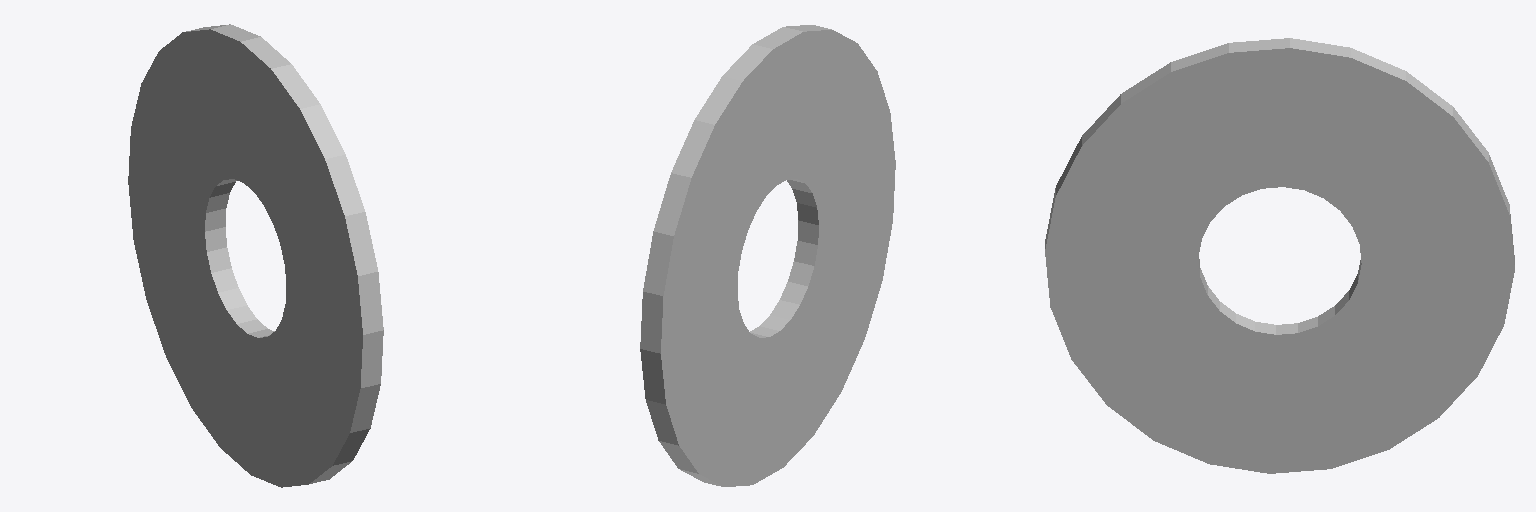
File: original-17.obj
3 views of the same model, side by side, from view 1: azimuth 30°, elevation 25°; view 2: azimuth 150°, elevation 25°; view 3: azimuth 270°, elevation 25° (orthographic).
Visible parts, largest first — view 1: Group12/mesh12/mesh12-geometry#mesh12-geometry; view 2: Group12/mesh12/mesh12-geometry#mesh12-geometry; view 3: Group12/mesh12/mesh12-geometry#mesh12-geometry.
Part boxes in pixels (x1,y1,x2,y2): Group12/mesh12/mesh12-geometry#mesh12-geometry: (128,24,383,487); Group12/mesh12/mesh12-geometry#mesh12-geometry: (640,25,895,486); Group12/mesh12/mesh12-geometry#mesh12-geometry: (1045,38,1514,473).
Size of the model in its own units: 0.003 by 0.0588 by 0.0588.